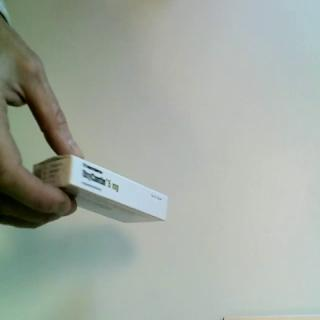oxycontin5mg: (32, 154, 170, 226)
